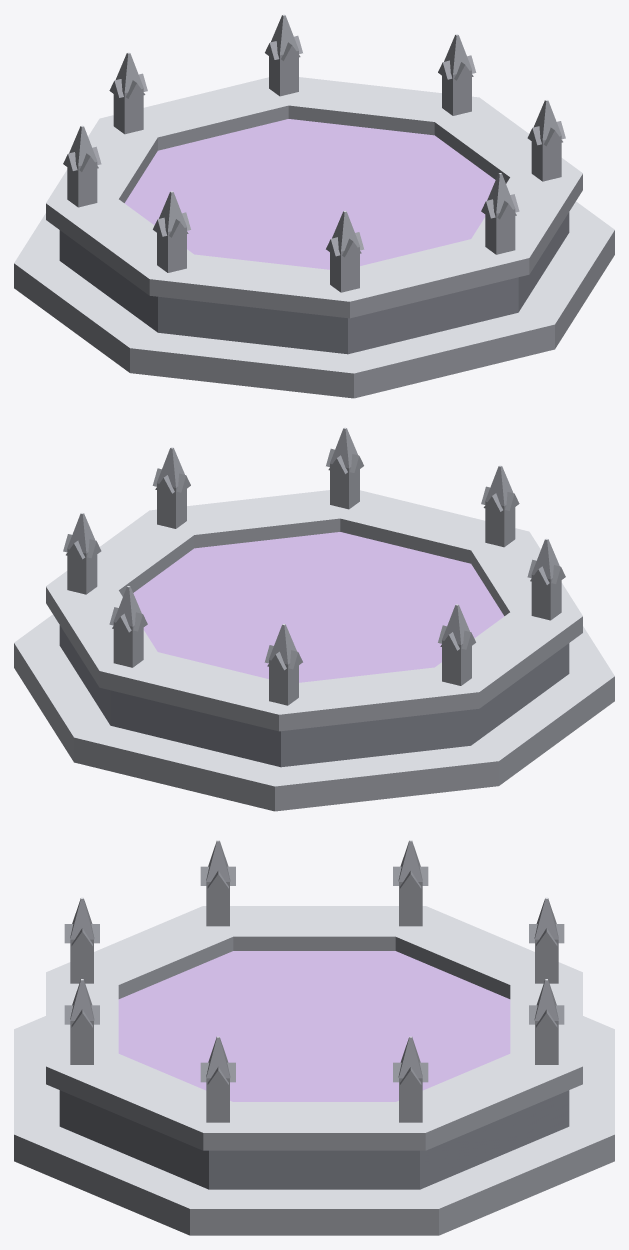
Rendered from PR_Bacia_Campo.fbx.
3 renders of one model, top to bottom at view 1: azimuth 30°, elevation 25°; view 2: azimuth 150°, elevation 25°; view 3: azimuth 270°, elevation 25°, orthographic. The views are drawn at different scales.
Parts seen in each view (by area): view 1: PR_Bacia_Campo; view 2: PR_Bacia_Campo; view 3: PR_Bacia_Campo.
Part boxes in pixels (<box>): PR_Bacia_Campo: <box>14,14,614,398</box>; PR_Bacia_Campo: <box>14,427,614,811</box>; PR_Bacia_Campo: <box>14,840,614,1235</box>.
Size of the model in its own units: 6.1 by 1.9 by 6.1.
